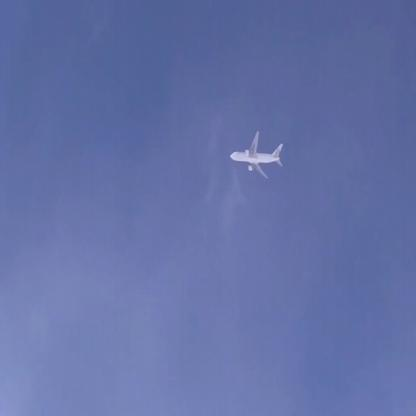CIV_Plane: (230, 132, 284, 178)
